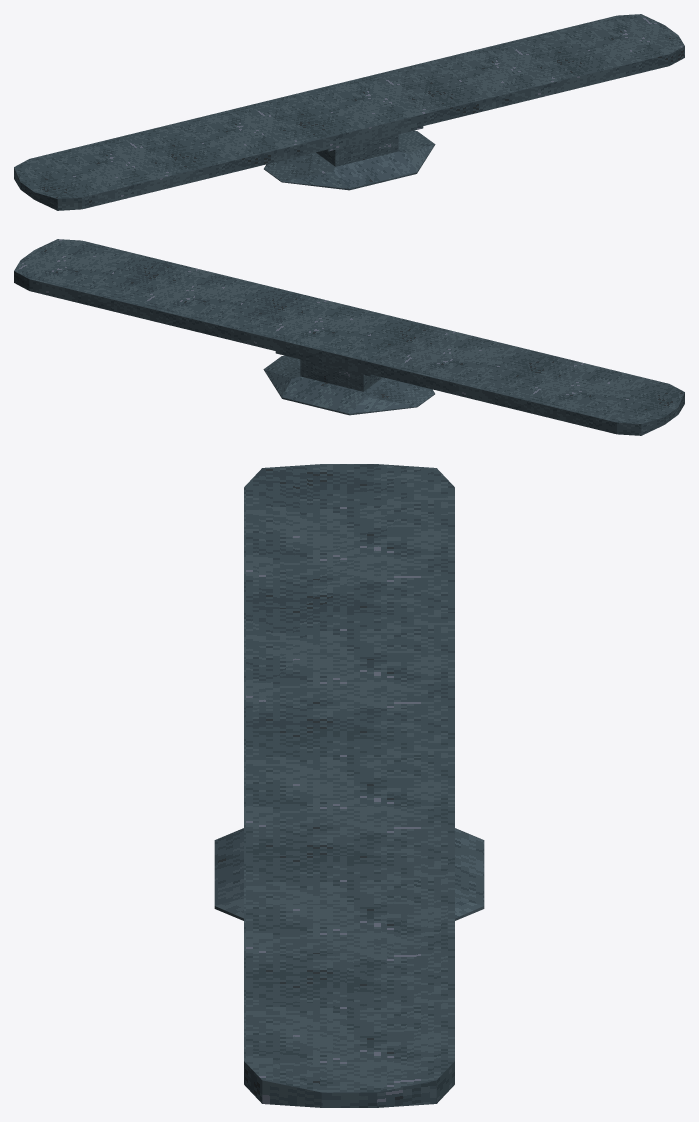
Rendered from Table.fbx.
3 renders of one model, top to bottom at view 1: azimuth 30°, elevation 25°; view 2: azimuth 150°, elevation 25°; view 3: azimuth 270°, elevation 25°, orthographic. The views are drawn at different scales.
Visible parts, largest first — view 1: TableRemesh; view 2: TableRemesh; view 3: TableRemesh.
Boxes of the visible parts, x1,y1,x2,y2 form: TableRemesh: (14,14,684,210); TableRemesh: (14,239,684,435); TableRemesh: (214,464,484,1107).
Size of the model in its own units: 2072 by 376 by 157.
Materials: 1 (1 with a texture image).
